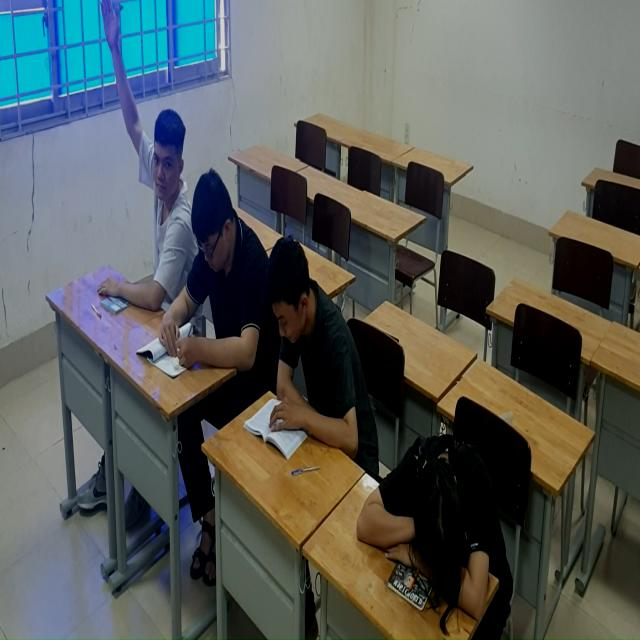raise_hand: (94, 1, 187, 316)
read: (242, 234, 361, 466), (138, 169, 270, 372)
sleep: (354, 424, 522, 626)
